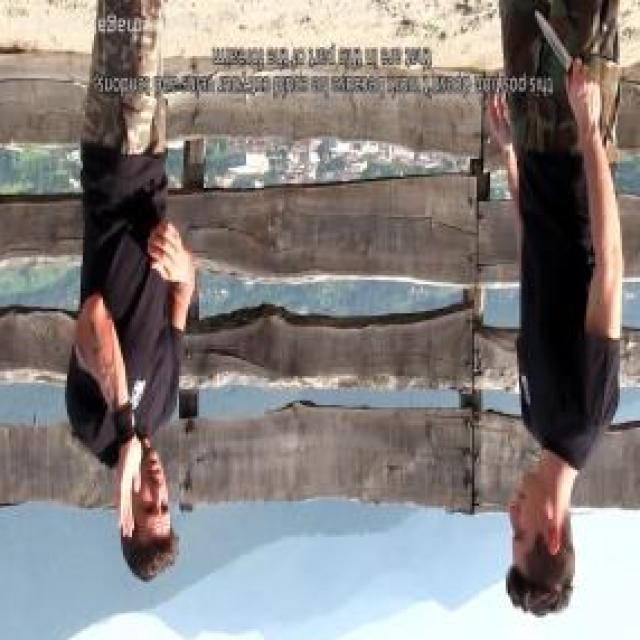knife: (530, 2, 604, 114)
